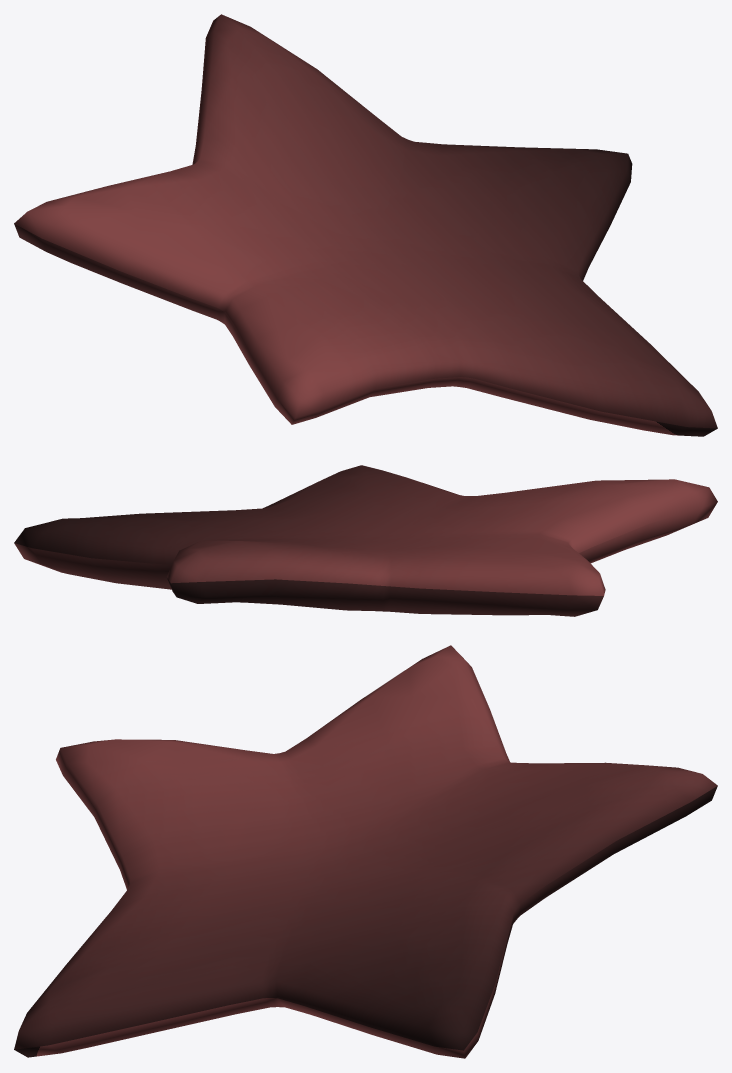
The model's file is star.glb.
3 views of the same model, one above another, from view 1: azimuth 30°, elevation 25°; view 2: azimuth 150°, elevation 25°; view 3: azimuth 270°, elevation 25° (orthographic). The views are drawn at different scales.
Parts seen in each view (by area): view 1: cc_star; view 2: cc_star; view 3: cc_star.
Part boxes in pixels (x1,y1,x2,y2): cc_star: (14,14,717,436); cc_star: (14,465,717,616); cc_star: (14,645,717,1058).
Size of the model in its own units: 0.1171 by 0.0388 by 0.1146.
Materials: 1 (1 with a texture image).
